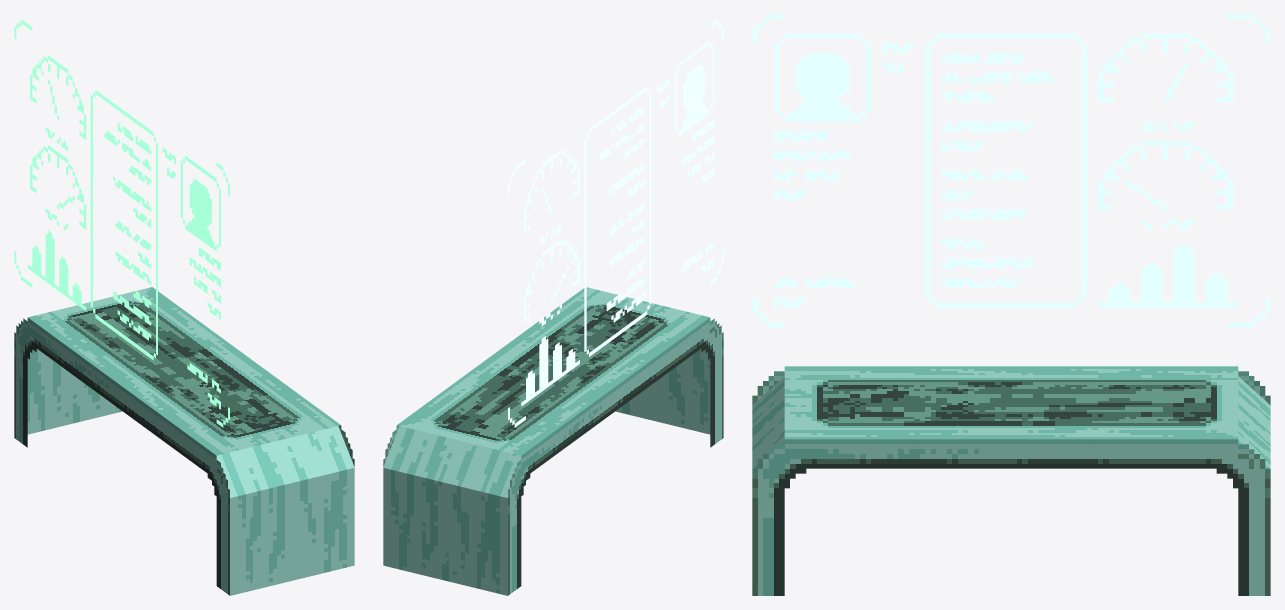
Rendered from Desk.gltf.
The picture shows the model from 3 angles, left to right: view 1: azimuth 30°, elevation 25°; view 2: azimuth 150°, elevation 25°; view 3: azimuth 270°, elevation 25°; orthographic projection. The views are drawn at different scales.
Visible parts, largest first — view 1: Desk; view 2: Desk; view 3: Desk.
Part boxes in pixels (left/top/right/bottom): Desk: left=14, top=19, right=354, bottom=595; Desk: left=383, top=19, right=723, bottom=595; Desk: left=752, top=14, right=1270, bottom=595.
Size of the model in its own units: 1 by 3.25 by 3.
1 material, 1 textured.
